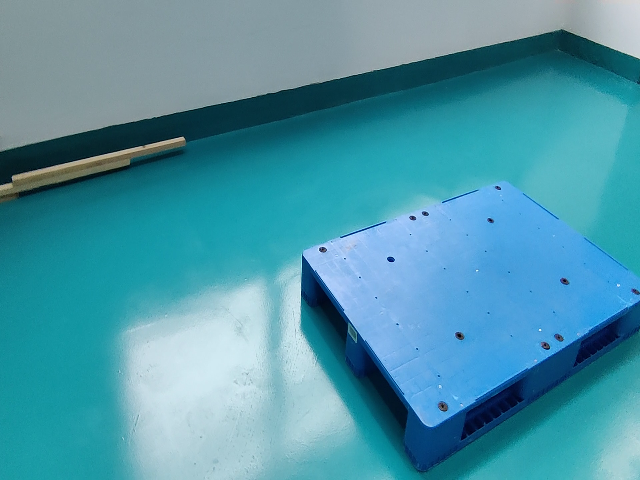block: (401, 407, 467, 474), (530, 336, 580, 402), (343, 321, 366, 382), (300, 252, 318, 307), (625, 299, 639, 342)
front: (297, 253, 426, 473)
hole pallet: (360, 346, 409, 448), (312, 280, 349, 362)
